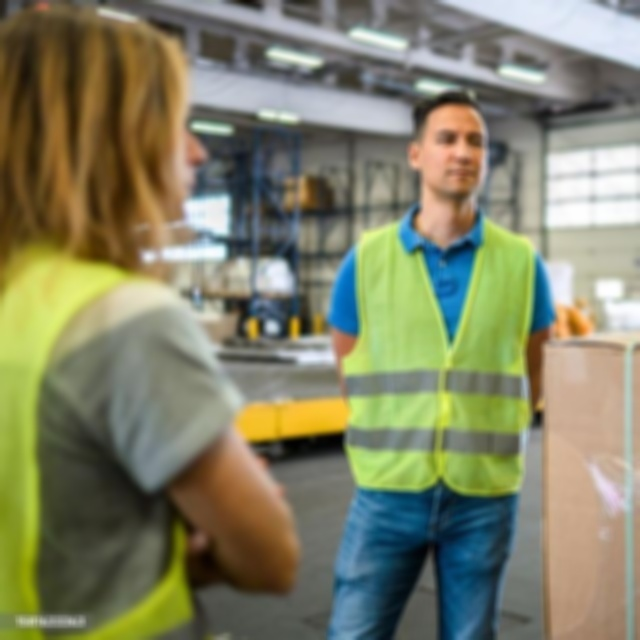Con_Chaleco: (343, 212, 538, 495)
Sin_Casco_Mascarrilla: (409, 90, 490, 201)
